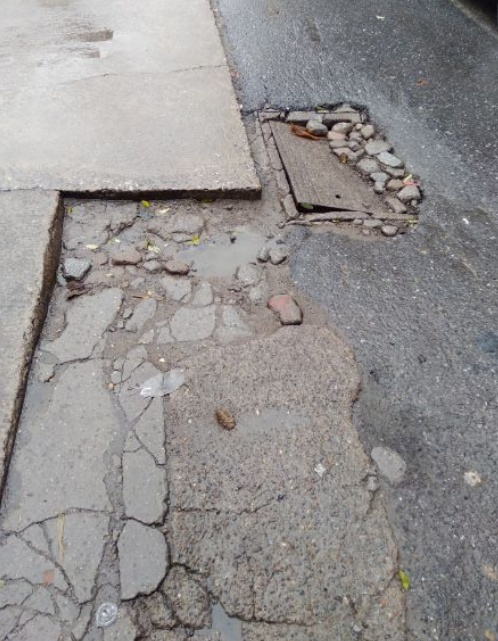uncovered: (256, 110, 419, 227)
